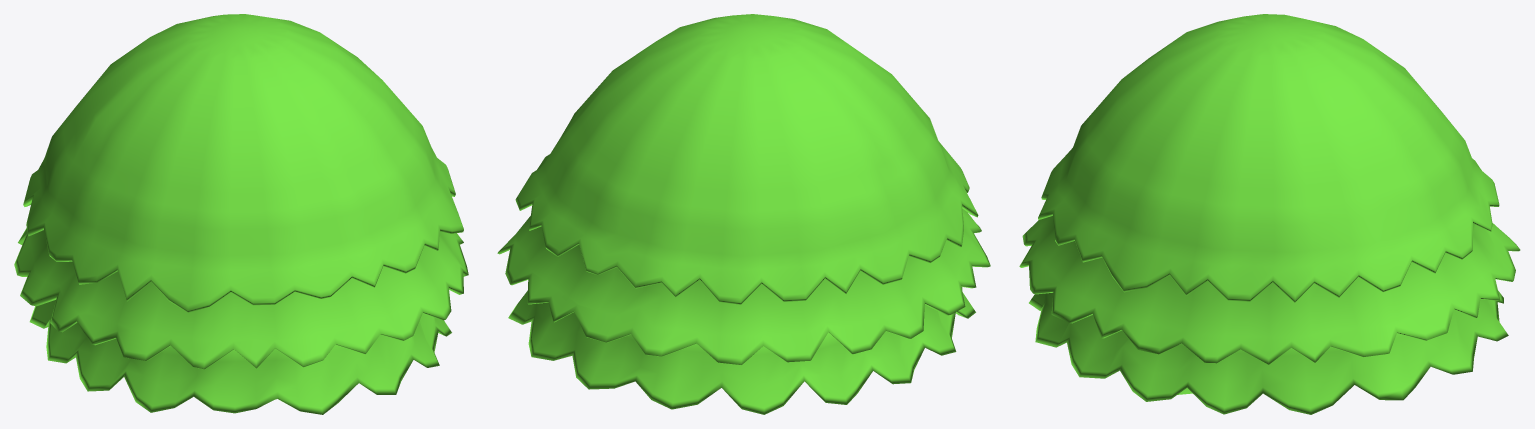
Rendered from sm_leaves6.fbx.
3 renders of one model, left to right at view 1: azimuth 30°, elevation 25°; view 2: azimuth 150°, elevation 25°; view 3: azimuth 270°, elevation 25°, orthographic.
Visible parts, largest first — view 1: bouquetFeuillesDetail2.001; view 2: bouquetFeuillesDetail2.001; view 3: bouquetFeuillesDetail2.001.
Part boxes in pixels (x1,y1,x2,y2): bouquetFeuillesDetail2.001: (14, 14, 468, 414); bouquetFeuillesDetail2.001: (497, 14, 990, 414); bouquetFeuillesDetail2.001: (1019, 14, 1520, 414).
Size of the model in its own units: 419 by 301 by 451.
